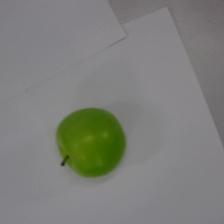green: (50, 101, 146, 183)
